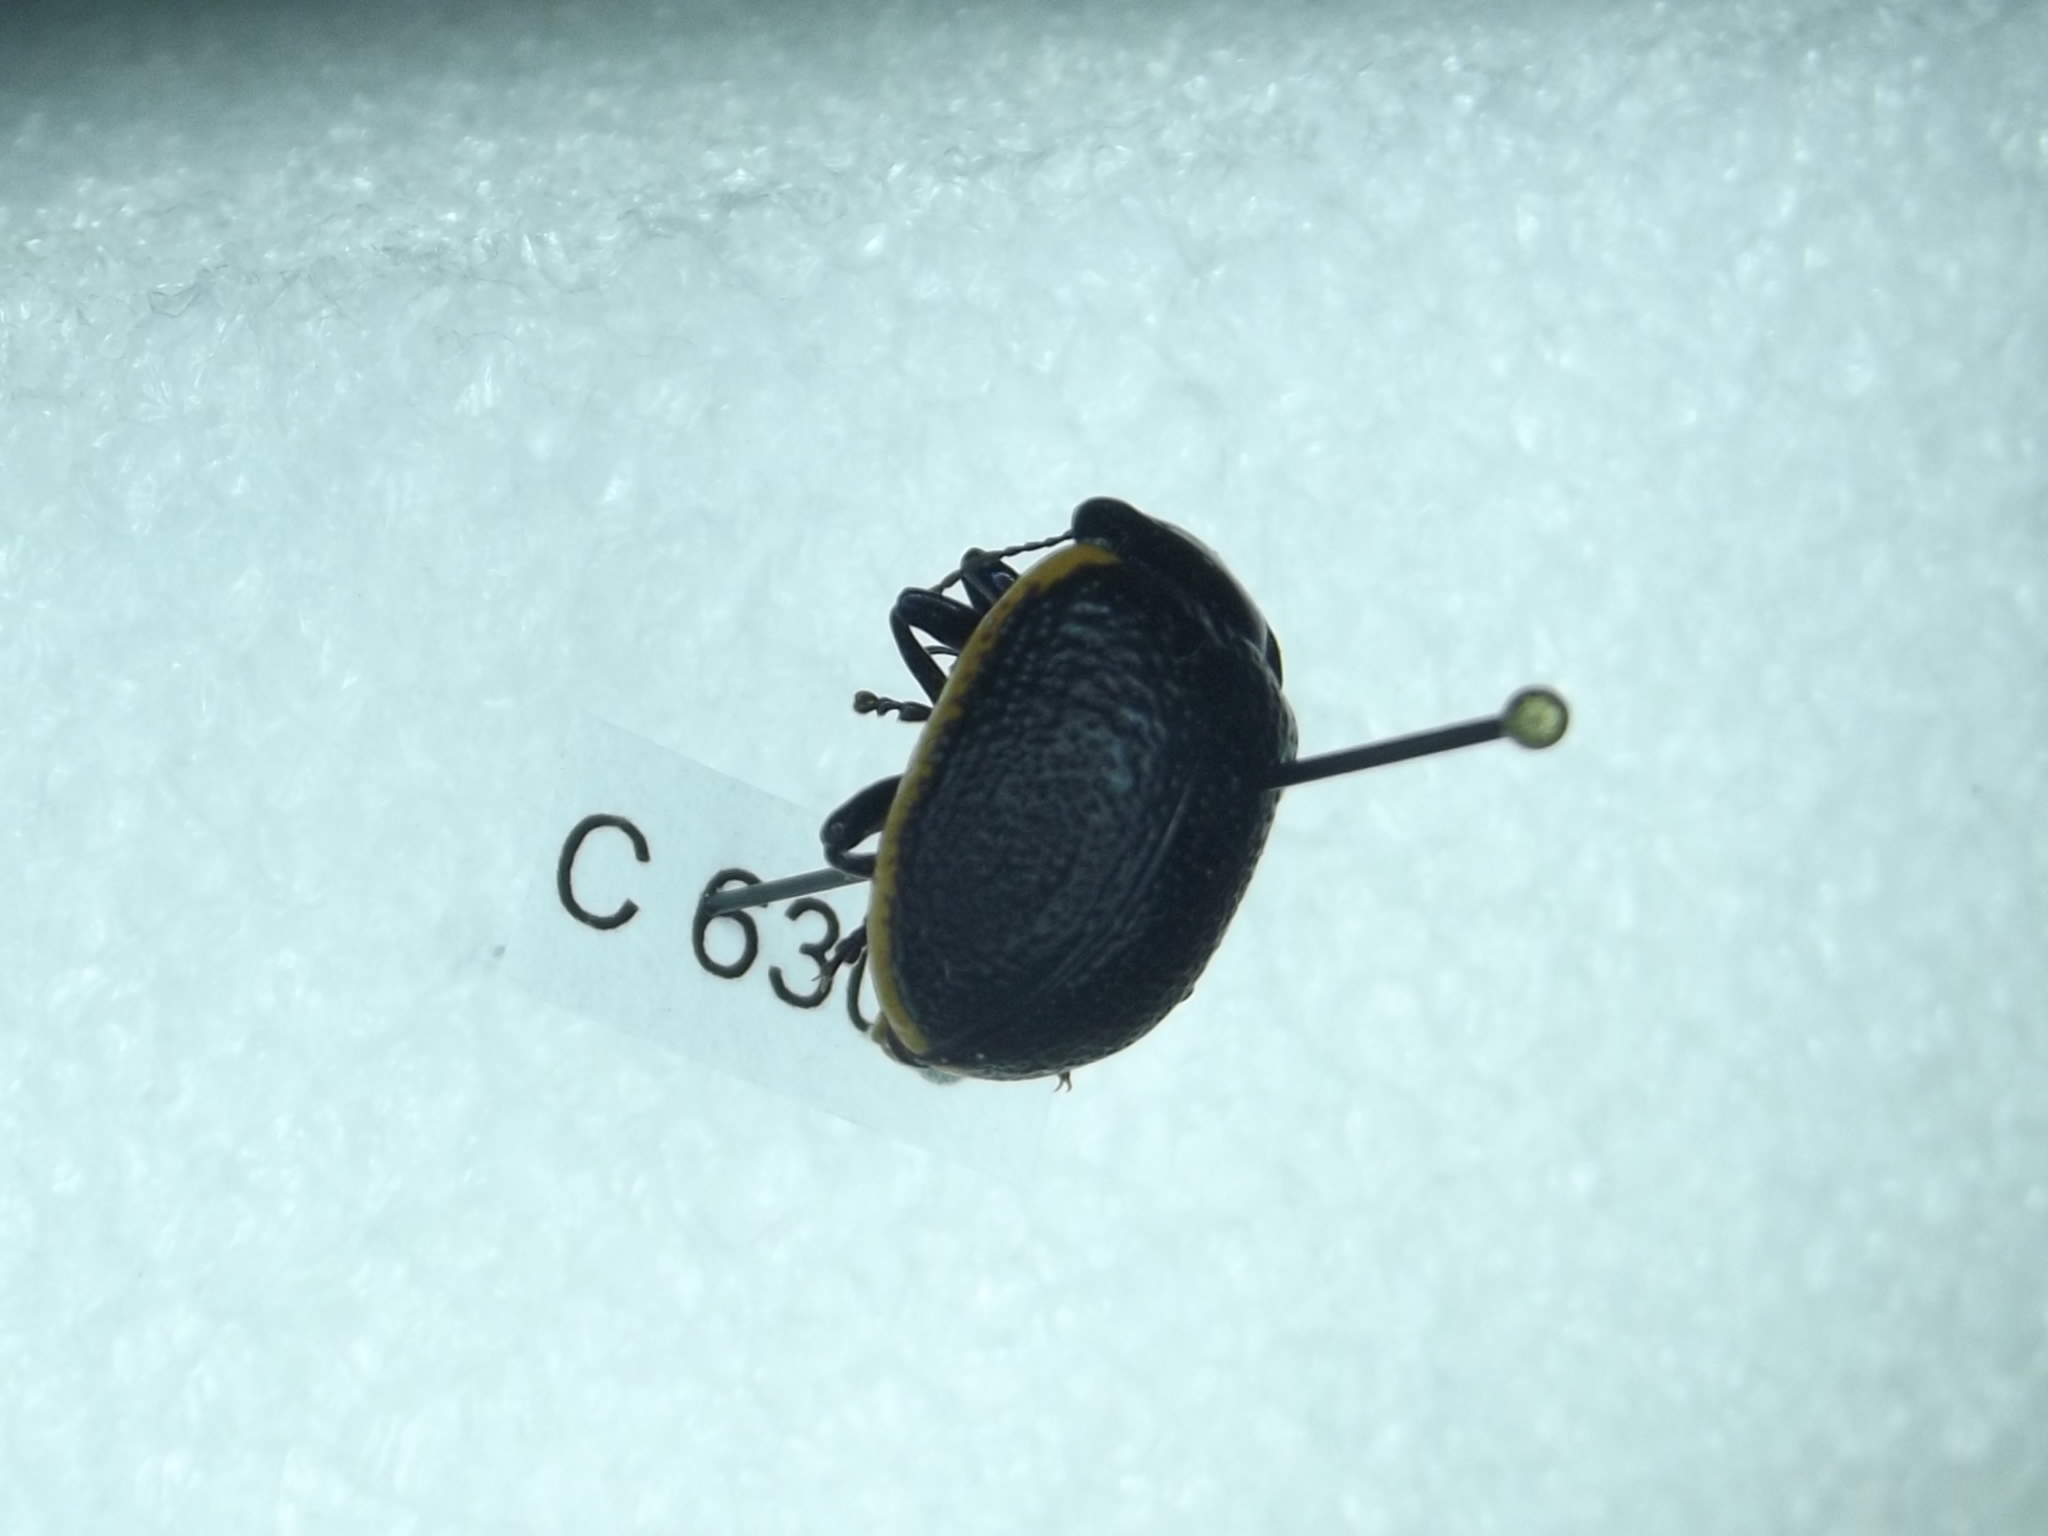Chrysolina_gypsophila: (826, 494, 1306, 1092)
